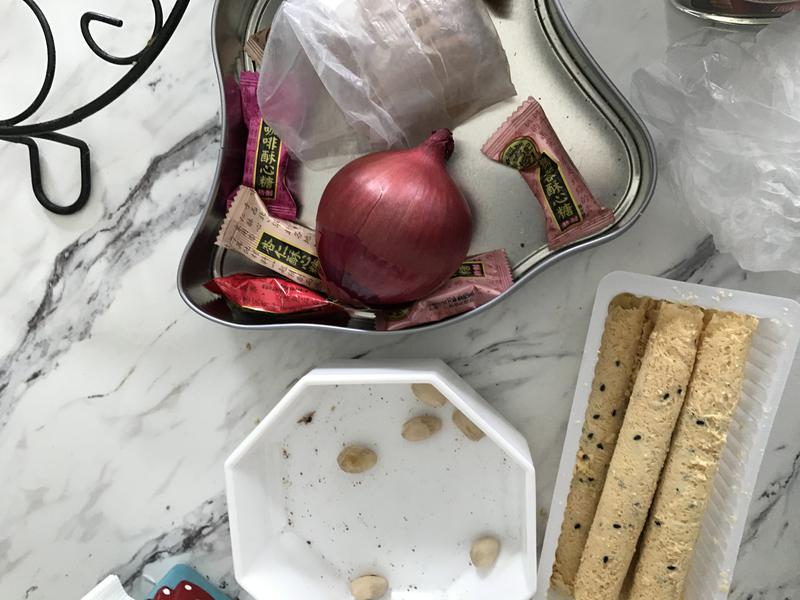purple_onion: (310, 115, 487, 317)
